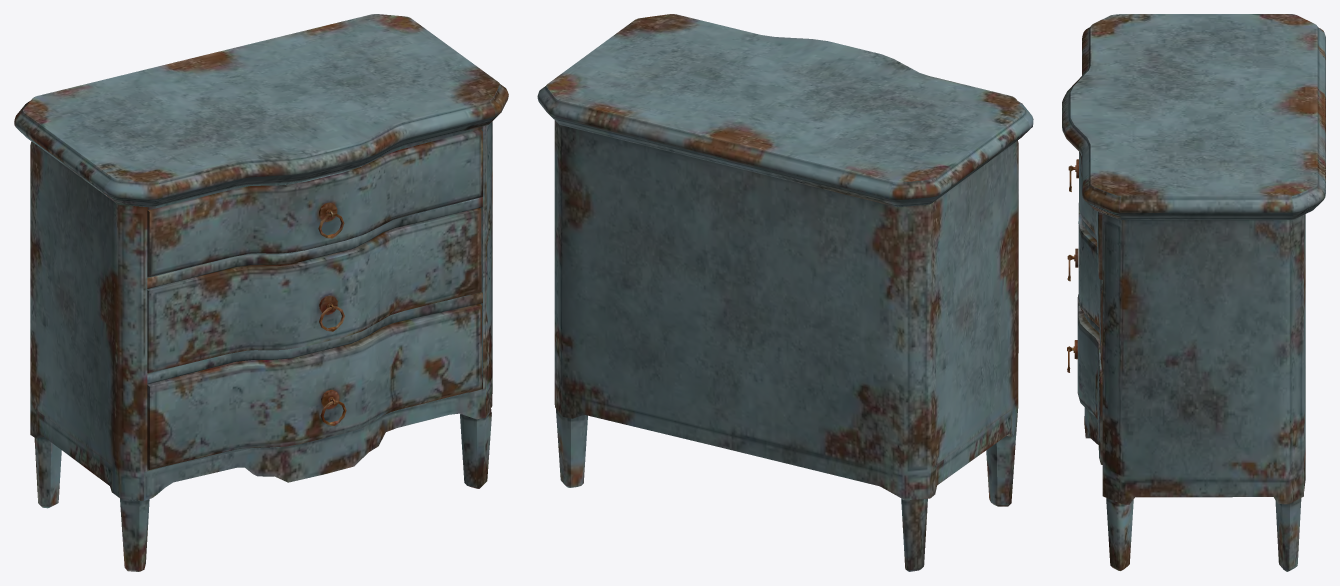
File: s_comoda2.glb
3 views of the same model, side by side, from view 1: azimuth 30°, elevation 25°; view 2: azimuth 150°, elevation 25°; view 3: azimuth 270°, elevation 25° (orthographic). The views are drawn at different scales.
Parts seen in each view (by area): view 1: defaultMaterial; view 2: defaultMaterial; view 3: defaultMaterial.
Boxes of the visible parts, x1=… form: defaultMaterial: x1=14, y1=14, x2=508, y2=571; defaultMaterial: x1=537, y1=14, x2=1033, y2=571; defaultMaterial: x1=1062, y1=14, x2=1325, y2=571.
Size of the model in its own units: 0.9549 by 0.9 by 0.562.
Materials: 1 (1 with a texture image).
